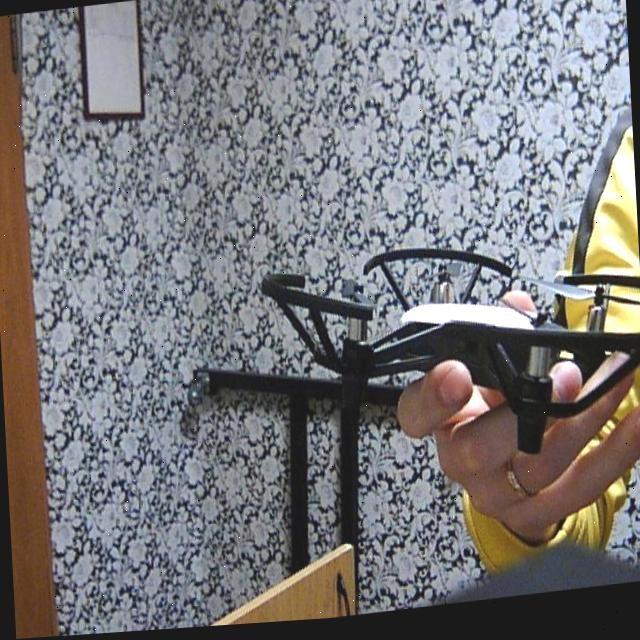drone: (250, 200, 640, 499)
